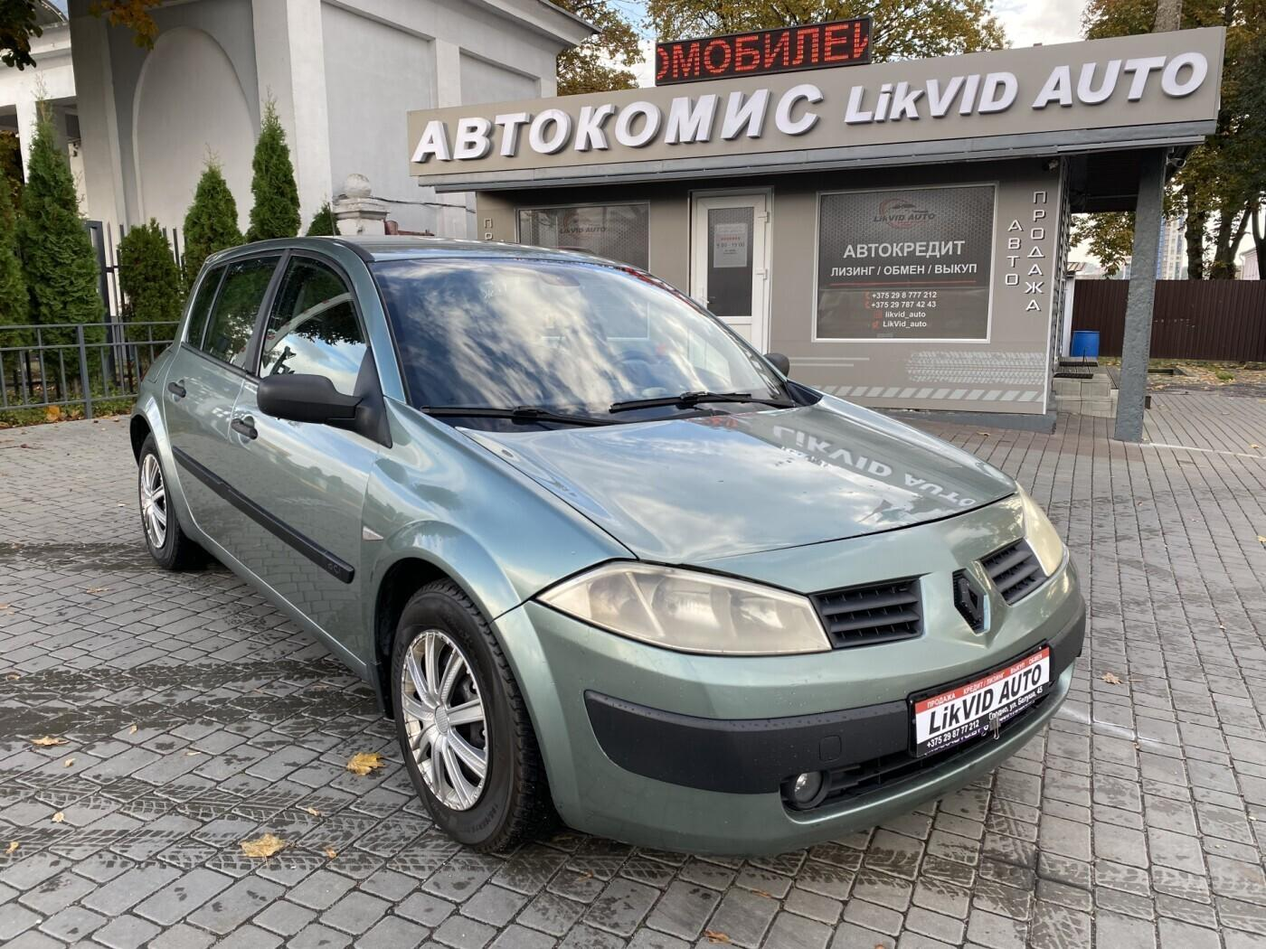Megane_2002-2006: (124, 234, 1086, 856)
